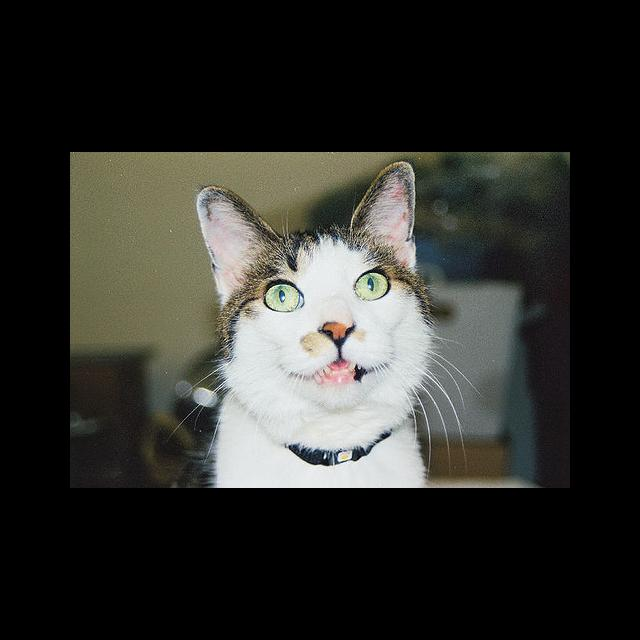animals: (203, 161, 413, 345)
